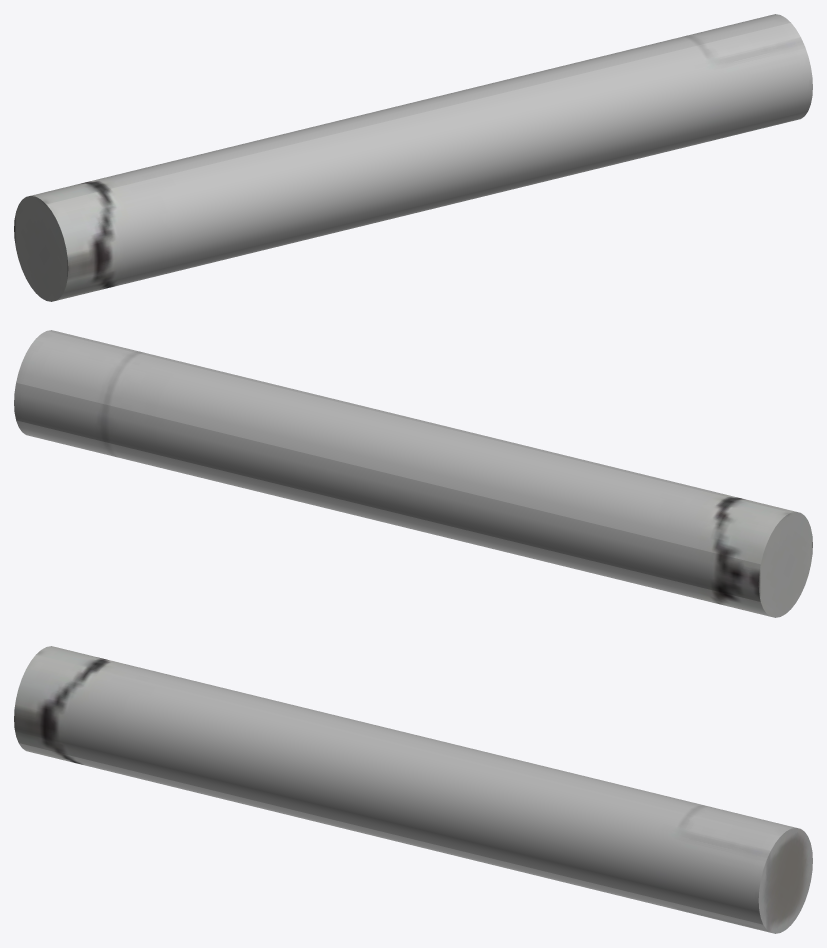
File: frame__handle_side_1.glb
3 renders of one model, top to bottom at view 1: azimuth 30°, elevation 25°; view 2: azimuth 150°, elevation 25°; view 3: azimuth 330°, elevation 25°, orthographic.
Visible parts, largest first — view 1: geometry_0; view 2: geometry_0; view 3: geometry_0.
Boxes of the visible parts, x1,y1,x2,y2 form: geometry_0: [14, 14, 812, 301]; geometry_0: [14, 330, 812, 617]; geometry_0: [14, 646, 812, 933].
Size of the model in its own units: 0.285 by 0.036 by 0.036.
Materials: 1 (1 with a texture image).
